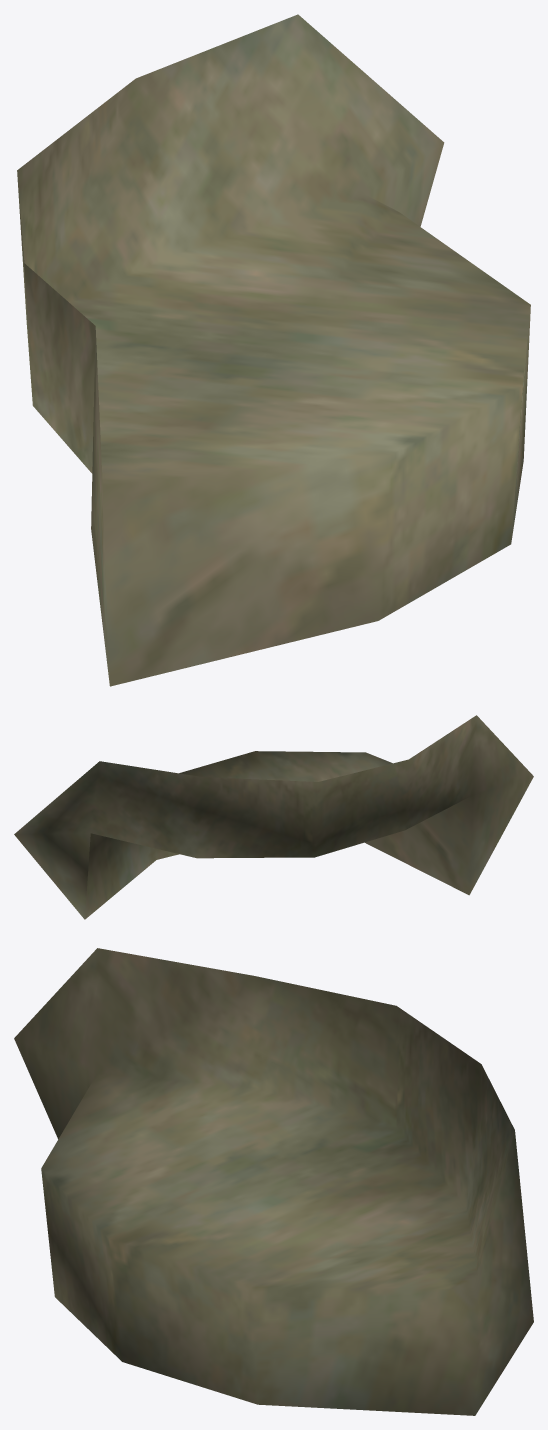
The model's file is EKH_CAVERNS_PS_CA_PLATFORM_74658.fbx.
The picture shows the model from 3 angles, top to bottom: view 1: azimuth 30°, elevation 25°; view 2: azimuth 150°, elevation 25°; view 3: azimuth 270°, elevation 25°; orthographic projection. The views are drawn at different scales.
Visible parts, largest first — view 1: EKH_CAVERNS_PS_CA_PLATFORM_74658; view 2: EKH_CAVERNS_PS_CA_PLATFORM_74658; view 3: EKH_CAVERNS_PS_CA_PLATFORM_74658.
Part boxes in pixels (x1,y1,x2,y2): EKH_CAVERNS_PS_CA_PLATFORM_74658: (17, 14, 530, 686); EKH_CAVERNS_PS_CA_PLATFORM_74658: (14, 715, 533, 919); EKH_CAVERNS_PS_CA_PLATFORM_74658: (14, 948, 533, 1415).
Size of the model in its own units: 22506 by 11246 by 19214.
Materials: 1 (1 with a texture image).
